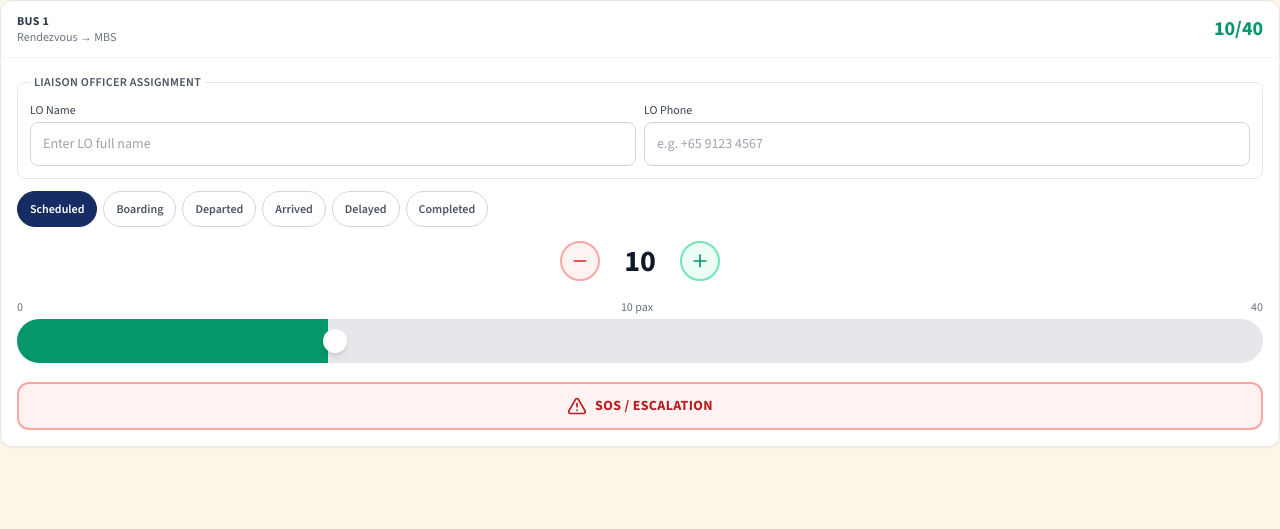
it: BusCard › shows Confirm/Discard when milestone is changed via MilestoneTracker
Click the radio button labelled "Boarding": [140, 209] box [103,191,176,227]
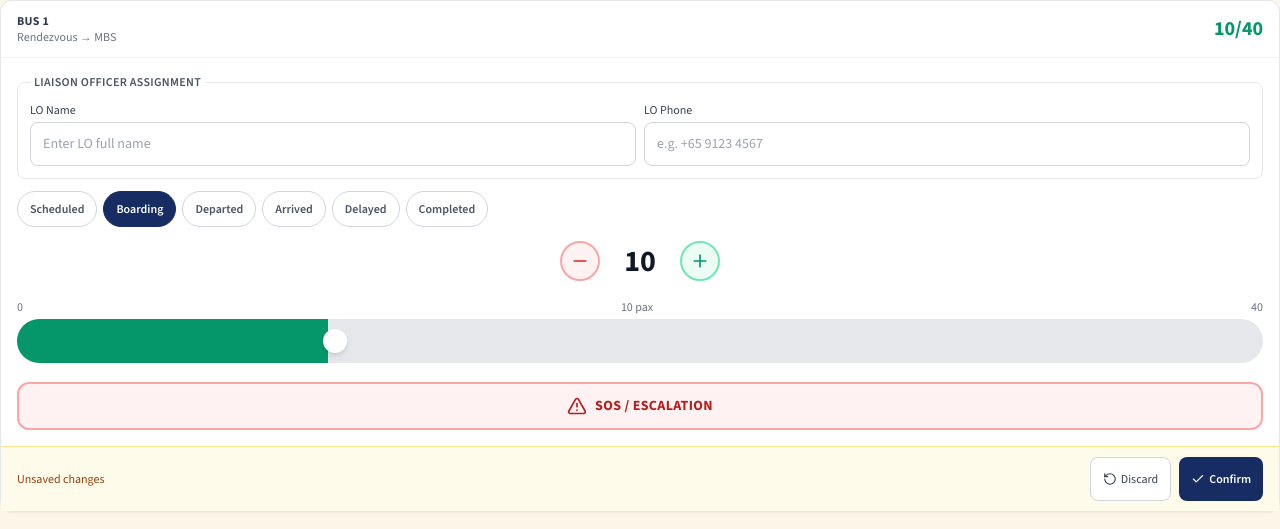
Expected: the button "Confirm" is shown, [1179,457,1263,501]
Expected: the button "Discard" is shown, [1090,457,1171,501]
Expected: the text "Unsaved changes" is shown, [17,471,104,487]
